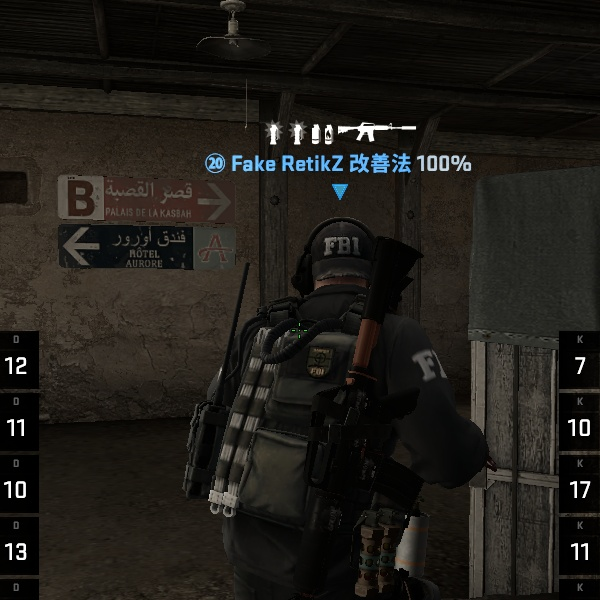ct_body: (205, 212, 507, 600)
ct_head: (271, 201, 416, 327)
